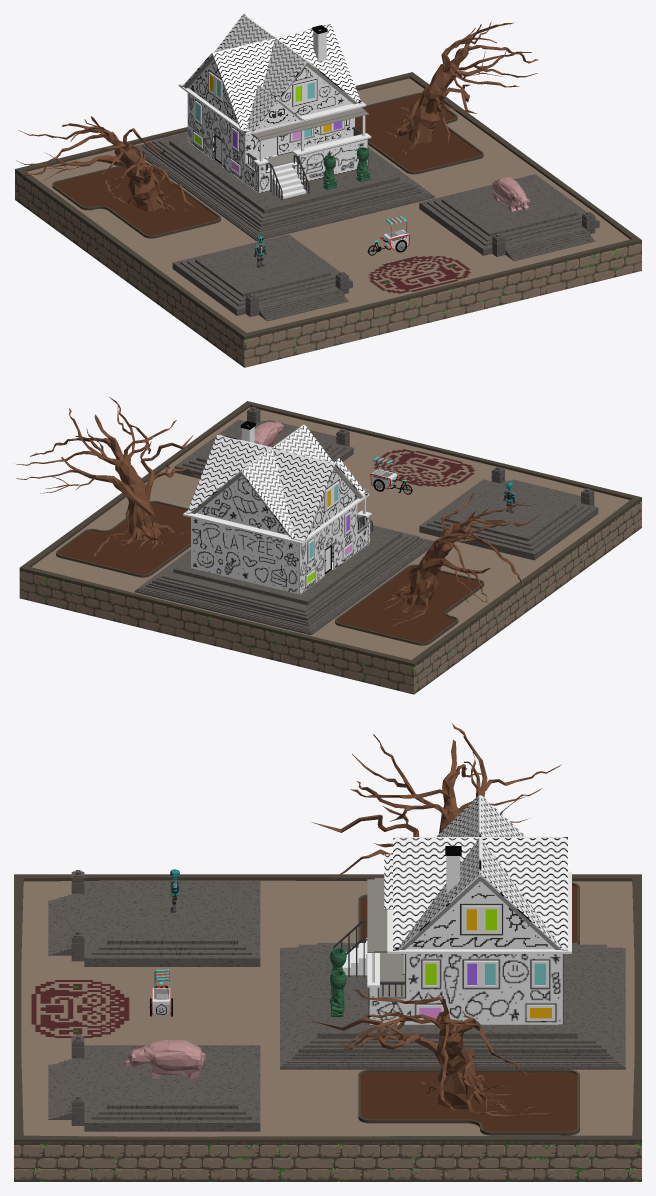
3 renders of one model, top to bottom at view 1: azimuth 30°, elevation 25°; view 2: azimuth 150°, elevation 25°; view 3: azimuth 270°, elevation 25°, orthographic. The views are drawn at different scales.
Parts seen in each view (by area): view 1: Cube.011, Cube.879, ANIMAL_HIPOPOTAMO, VEHICLES_SNOWBAL_BIKE; view 2: Cube.011, Cube.879, VEHICLES_SNOWBAL_BIKE, ANIMAL_HIPOPOTAMO; view 3: Cube.011, Cube.879, ANIMAL_HIPOPOTAMO, VEHICLES_SNOWBAL_BIKE.
Boxes of the visible parts, x1,y1,x2,y2 form: Cube.011: (15,22,641,367); Cube.879: (178,14,371,199); ANIMAL_HIPOPOTAMO: (492,177,530,211); VEHICLES_SNOWBAL_BIKE: (367,216,410,255); Cube.011: (14,397,641,694); Cube.879: (183,421,372,594); VEHICLES_SNOWBAL_BIKE: (370,456,412,494); ANIMAL_HIPOPOTAMO: (254,421,283,447); Cube.011: (14,723,641,1181); Cube.879: (333,795,571,1024); ANIMAL_HIPOPOTAMO: (124,1040,205,1079); VEHICLES_SNOWBAL_BIKE: (149,969,173,1016).
Bounding box in the file's own units: 5099 × 1668 × 4000.
37 materials, 12 textured.
